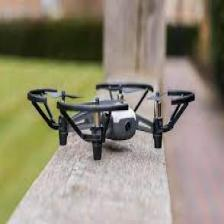drone: (34, 91, 181, 152)
